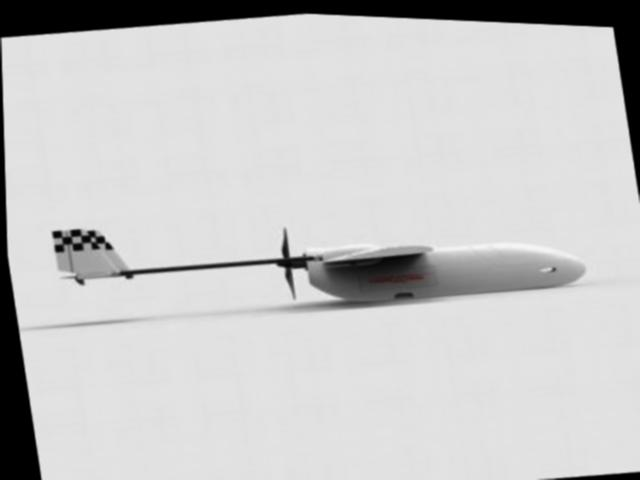uav: (43, 163, 585, 350)
